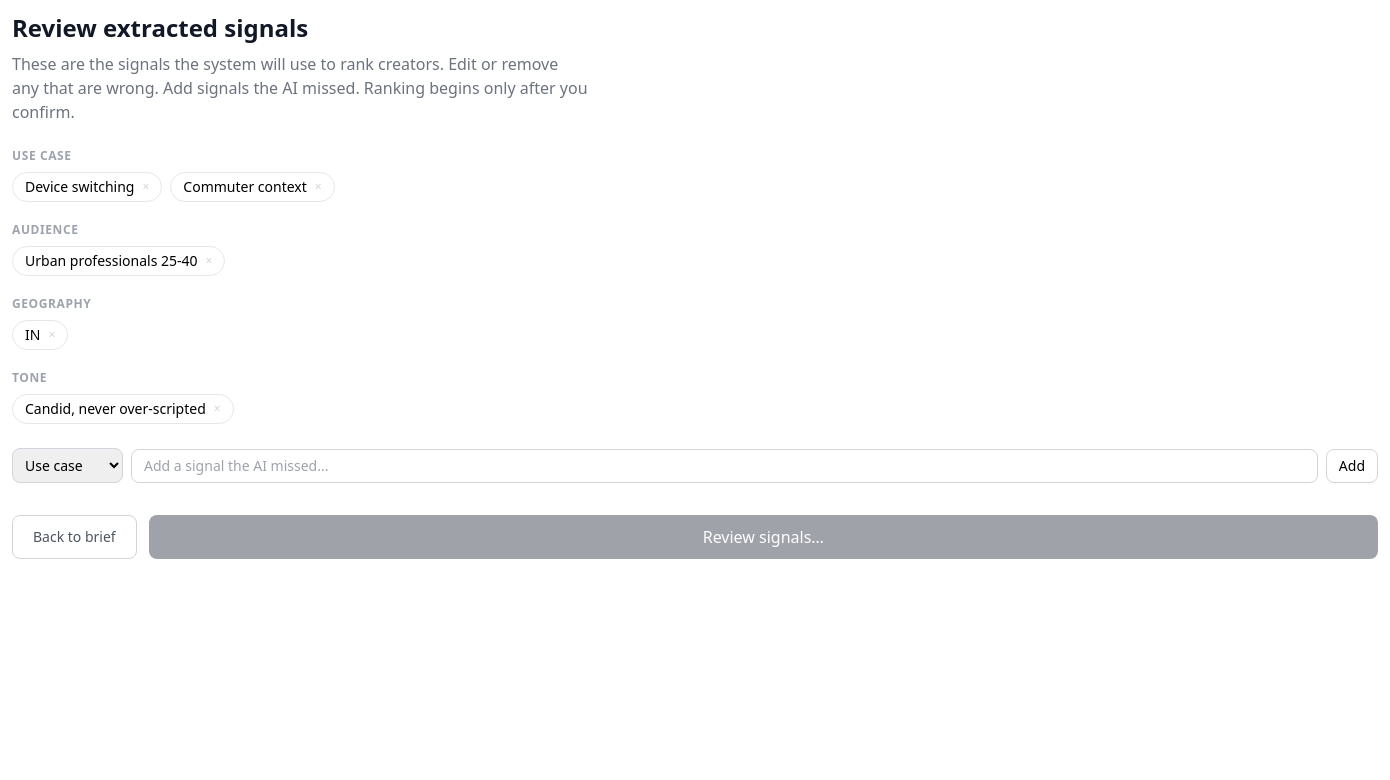
Test case: SignalConfirmationScreen › removes a chip when × is clicked
Click the button named "Remove signal" at {"x": 146, "y": 187}, box left=142, top=179, right=149, bottom=195
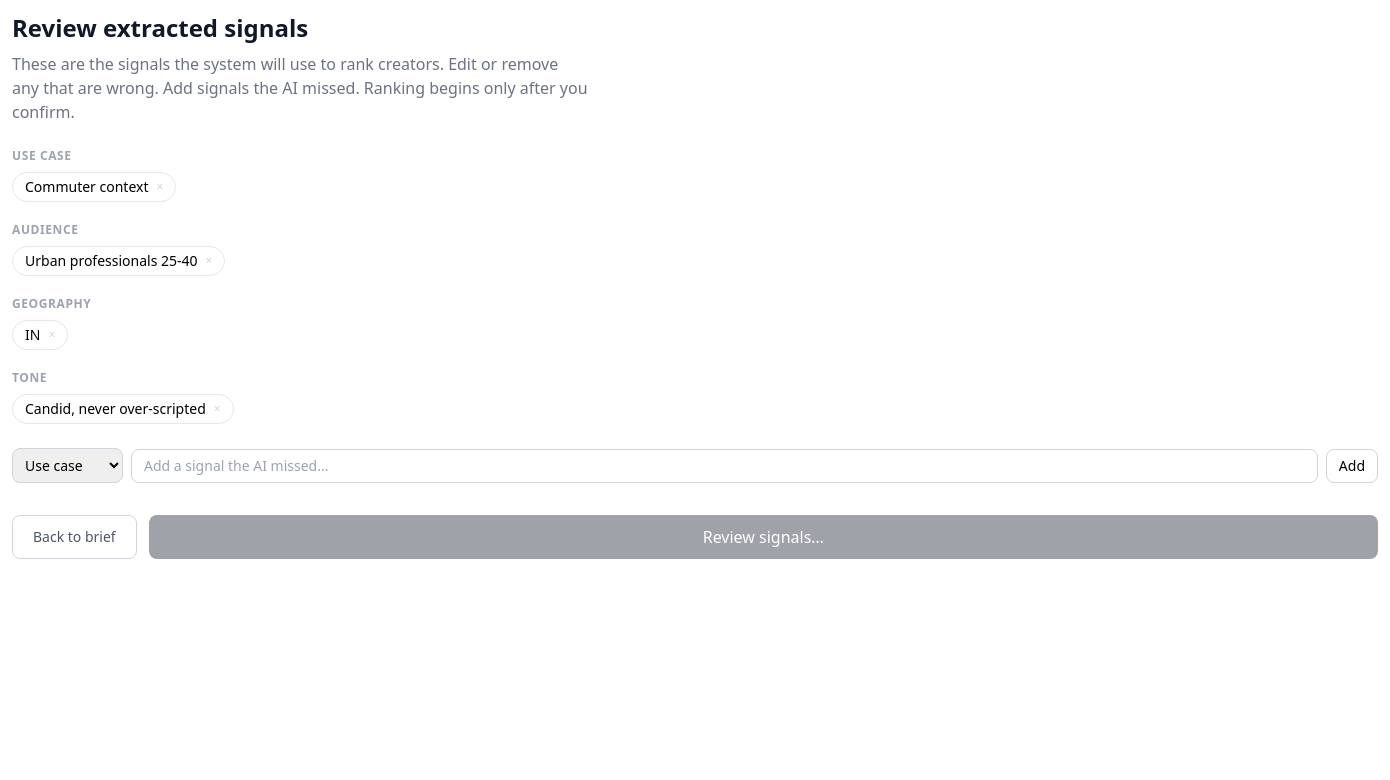
Expected: the text "Device switching" is gone
